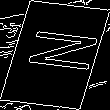N_E: (11, 31, 99, 79)
